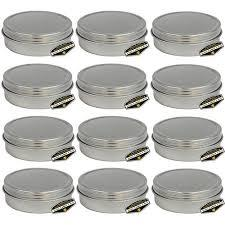Tin: (6, 5, 225, 225)
